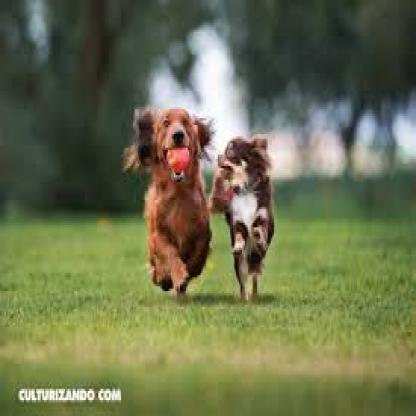dog: (122, 94, 215, 317), (211, 101, 300, 310)
